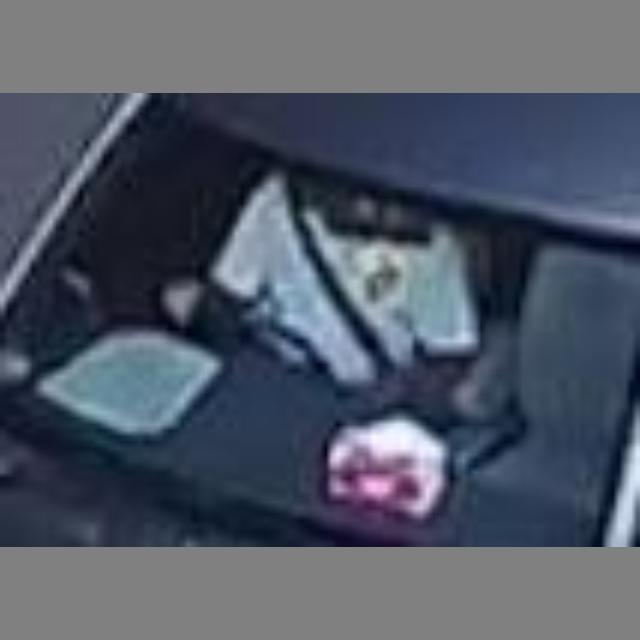pakai: (233, 165, 461, 386)
